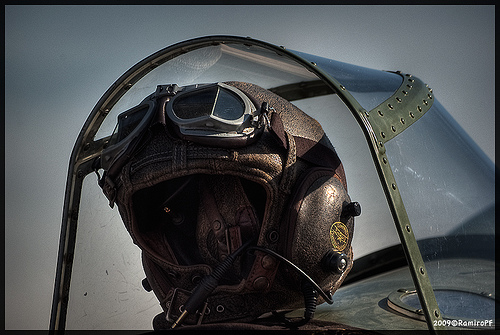helmet: (97, 85, 358, 297)
